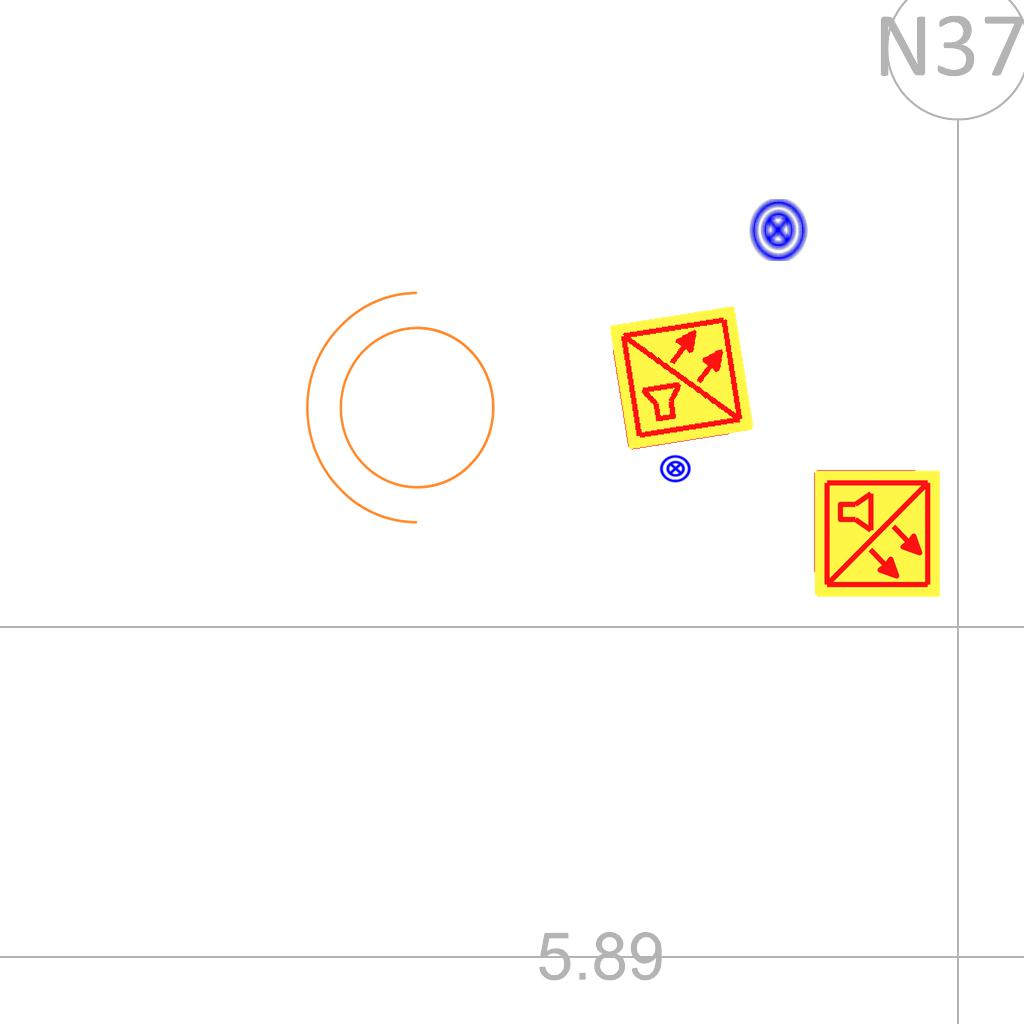OKW_Multisensormelder_(Kombination_optischer_Rauch-Kahlenmonoxid_Waerme-Melder): (606, 302, 758, 454), (811, 468, 943, 600)
Scheinwerfer_fuer_Alarmbeleuchtung: (295, 282, 520, 546)
Taster_beleuchtet: (745, 197, 811, 263), (659, 452, 692, 485)
